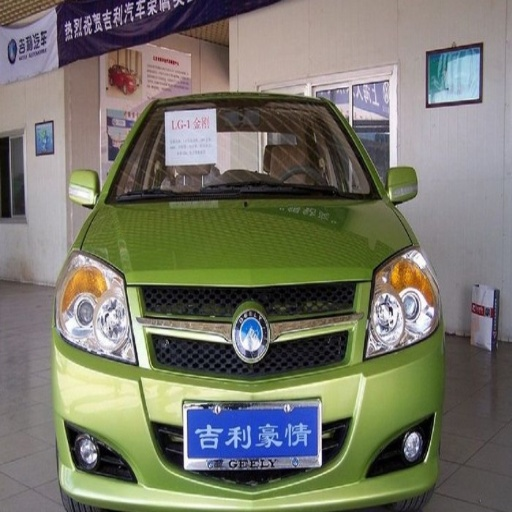front_bumper: (57, 281, 442, 511)
front_right_light: (56, 251, 137, 365)
hood: (84, 201, 408, 284)
left_mirror: (387, 165, 419, 204)
